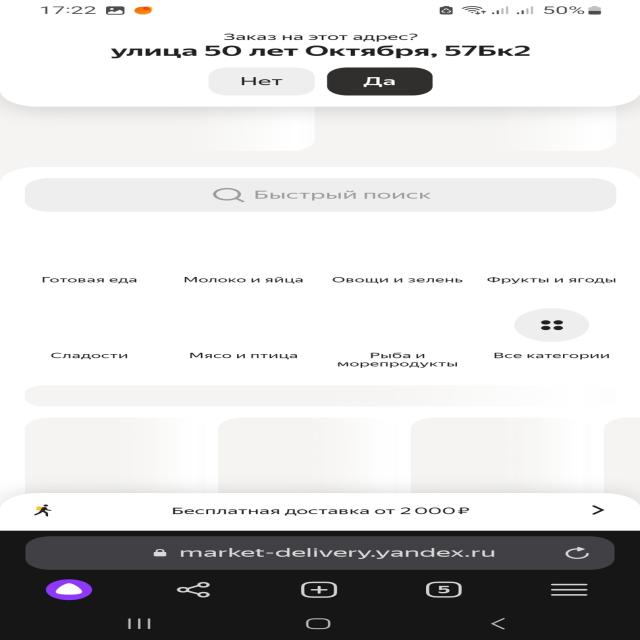button: (327, 67, 432, 96), (208, 67, 312, 95)
site: (2, 24, 640, 104), (4, 492, 640, 529)
